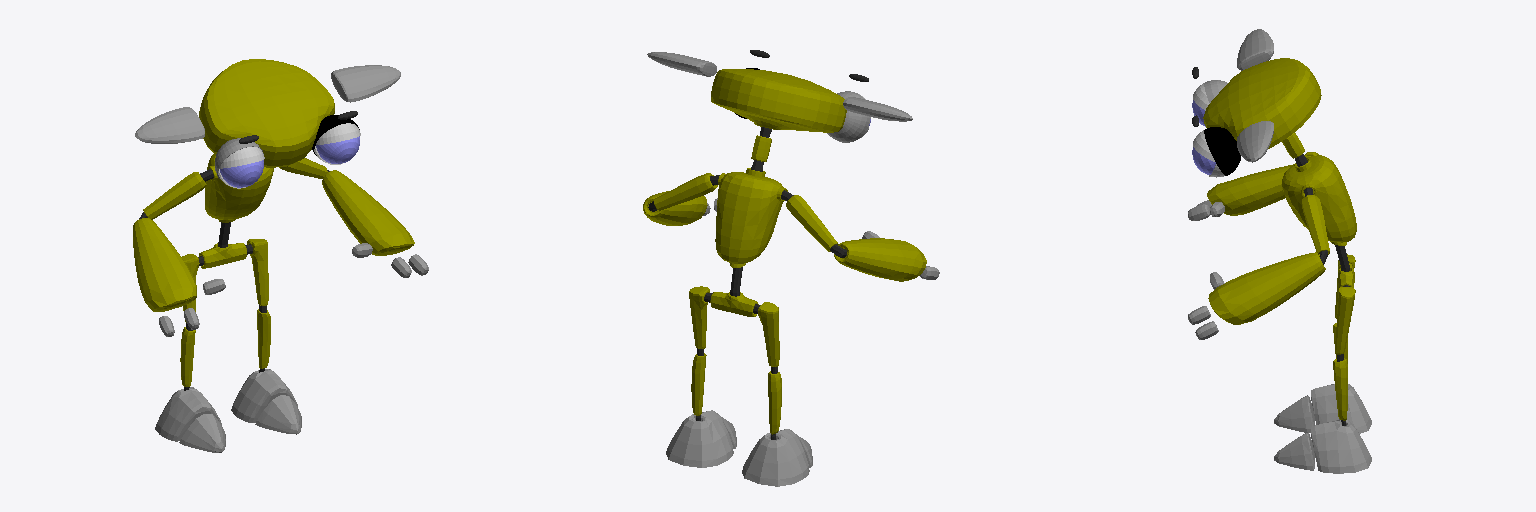
The model's file is push_start1.obj.
3 views of the same model, side by side, from view 1: azimuth 30°, elevation 25°; view 2: azimuth 150°, elevation 25°; view 3: azimuth 270°, elevation 25° (orthographic).
Parts seen in each view (by area): view 1: Mesh polySurface50, Mesh polySurface37, Mesh polySurface18, Mesh polySurface41, Mesh polySurface47, Mesh polySurface48, Mesh polySurface44, Mesh polySurface10, Mesh polySurface26, Mesh polySurface24, Mesh polySurface8, Mesh polySurface38 (+9 smaller); view 2: Mesh polySurface41, Mesh polySurface48, Mesh polySurface37, Mesh polySurface26, Mesh polySurface10, Mesh polySurface18, Mesh polySurface50, Mesh polySurface38, Mesh polySurface51, Mesh polySurface28, Mesh polySurface12, Mesh polySurface21 (+4 smaller); view 3: Mesh polySurface18, Mesh polySurface50, Mesh polySurface41, Mesh polySurface10, Mesh polySurface37, Mesh polySurface48, Mesh polySurface26, Mesh polySurface4, Mesh polySurface44, Mesh polySurface51, Mesh polySurface12, Mesh polySurface8 (+3 smaller).
Boxes of the visible parts, box(x1,y1,x2,y2) form: Mesh polySurface50: box(207, 59, 333, 146); Mesh polySurface37: box(133, 218, 196, 311); Mesh polySurface18: box(322, 170, 414, 255); Mesh polySurface41: box(205, 154, 273, 222); Mesh polySurface47: box(135, 107, 204, 142); Mesh polySurface48: box(199, 71, 334, 167); Mesh polySurface44: box(333, 65, 400, 101); Mesh polySurface10: box(231, 369, 297, 422); Mesh polySurface26: box(155, 387, 221, 441); Mesh polySurface24: box(179, 414, 225, 452); Mesh polySurface8: box(255, 395, 301, 434); Mesh polySurface38: box(143, 172, 206, 219); Mesh polySurface41: box(715, 168, 787, 267); Mesh polySurface48: box(711, 70, 846, 131); Mesh polySurface37: box(834, 238, 926, 281); Mesh polySurface26: box(742, 429, 809, 486); Mesh polySurface10: box(666, 410, 733, 467); Mesh polySurface18: box(643, 191, 707, 225); Mesh polySurface50: box(721, 69, 844, 99); Mesh polySurface38: box(786, 195, 838, 251); Mesh polySurface51: box(654, 173, 717, 210); Mesh polySurface28: box(758, 302, 779, 366); Mesh polySurface12: box(689, 286, 709, 348); Mesh polySurface21: box(827, 91, 870, 142); Mesh polySurface18: box(1208, 252, 1325, 324); Mesh polySurface50: box(1203, 58, 1305, 131); Mesh polySurface41: box(1282, 155, 1356, 245); Mesh polySurface10: box(1311, 419, 1371, 473); Mesh polySurface37: box(1207, 165, 1291, 215); Mesh polySurface48: box(1203, 65, 1321, 148); Mesh polySurface26: box(1311, 384, 1371, 433); Mesh polySurface4: box(1204, 127, 1240, 175); Mesh polySurface44: box(1237, 121, 1273, 161); Mesh polySurface51: box(1302, 195, 1329, 256); Mesh polySurface12: box(1335, 287, 1355, 354); Mesh polySurface8: box(1274, 432, 1313, 470).
Size of the model in its own units: 10.05 by 13.48 by 6.07.